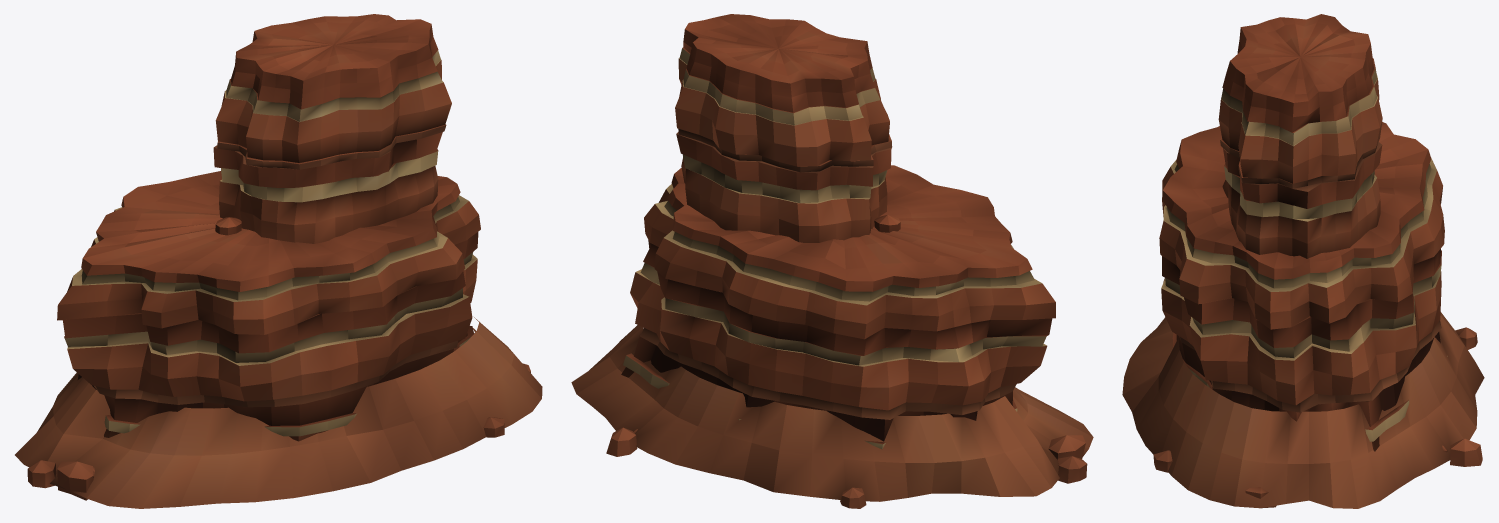
File: mesa_b.glb
The picture shows the model from 3 angles, left to right: view 1: azimuth 30°, elevation 25°; view 2: azimuth 150°, elevation 25°; view 3: azimuth 270°, elevation 25°; orthographic projection.
Visible parts, largest first — view 1: rock_red, dirt_red, sand; view 2: rock_red, dirt_red, sand; view 3: rock_red, dirt_red, sand.
Part boxes in pixels (box(x1,y1,x2,y2)): rock_red: box(27, 14, 530, 500); dirt_red: box(15, 125, 542, 508); sand: box(64, 50, 477, 436); rock_red: box(606, 14, 1087, 508); dirt_red: box(571, 128, 1093, 501); sand: box(623, 48, 1046, 449); rock_red: box(1153, 14, 1482, 508); dirt_red: box(1122, 140, 1484, 508); sand: box(1161, 68, 1447, 441).
Size of what is drawn, in the model's own units: 156 by 114 by 99.86.
